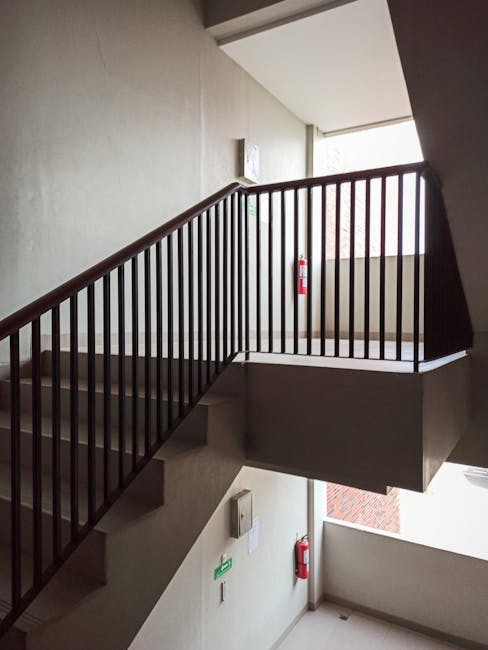fire_extinguisher: (295, 535, 310, 579), (297, 254, 308, 295)
